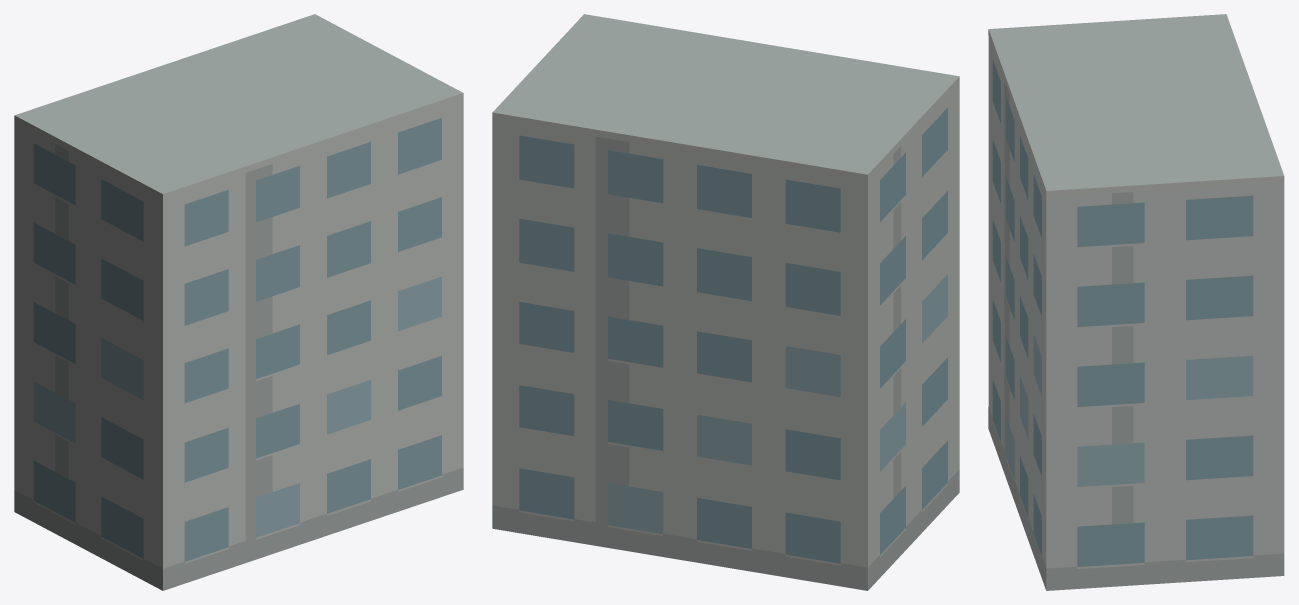
File: survey-upis-32949122.glb
3 renders of one model, left to right at view 1: azimuth 30°, elevation 25°; view 2: azimuth 150°, elevation 25°; view 3: azimuth 270°, elevation 25°, orthographic. The views are drawn at different scales.
Parts seen in each view (by area): view 1: survey-upis-32949122.tmp; view 2: survey-upis-32949122.tmp; view 3: survey-upis-32949122.tmp.
Part boxes in pixels (x1,y1,x2,y2): survey-upis-32949122.tmp: [14, 14, 463, 590]; survey-upis-32949122.tmp: [492, 14, 959, 590]; survey-upis-32949122.tmp: [988, 14, 1284, 590].
Size of the model in its own units: 14.15 by 14.9 by 10.
